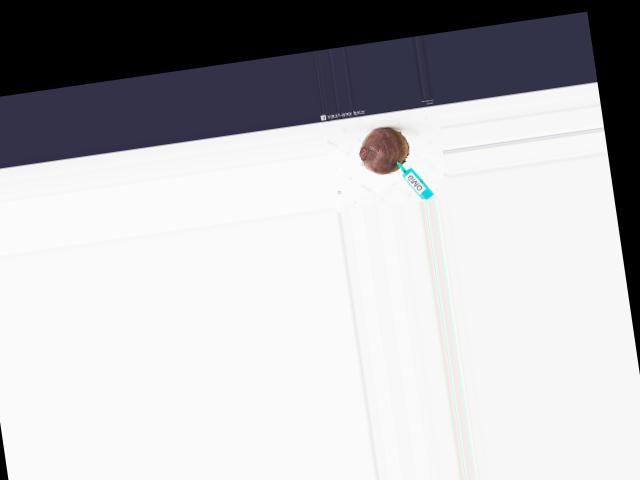beet: (356, 123, 412, 177)
